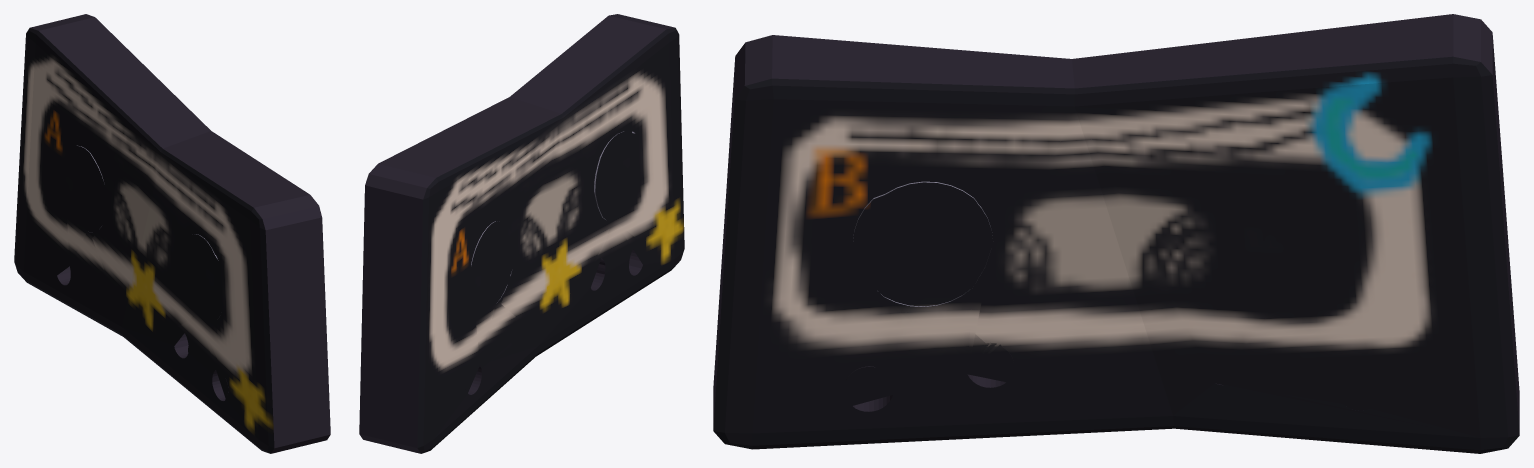
Rendered from cassette.fbx.
3 renders of one model, left to right at view 1: azimuth 30°, elevation 25°; view 2: azimuth 150°, elevation 25°; view 3: azimuth 270°, elevation 25°, orthographic. The views are drawn at different scales.
Visible parts, largest first — view 1: Cube; view 2: Cube; view 3: Cube.
Boxes of the visible parts, x1,y1,x2,y2 form: Cube: (14,14,330,453); Cube: (359,14,684,453); Cube: (713,14,1519,453).
Size of the model in its own units: 0.5863 by 3.91 by 2.14.
